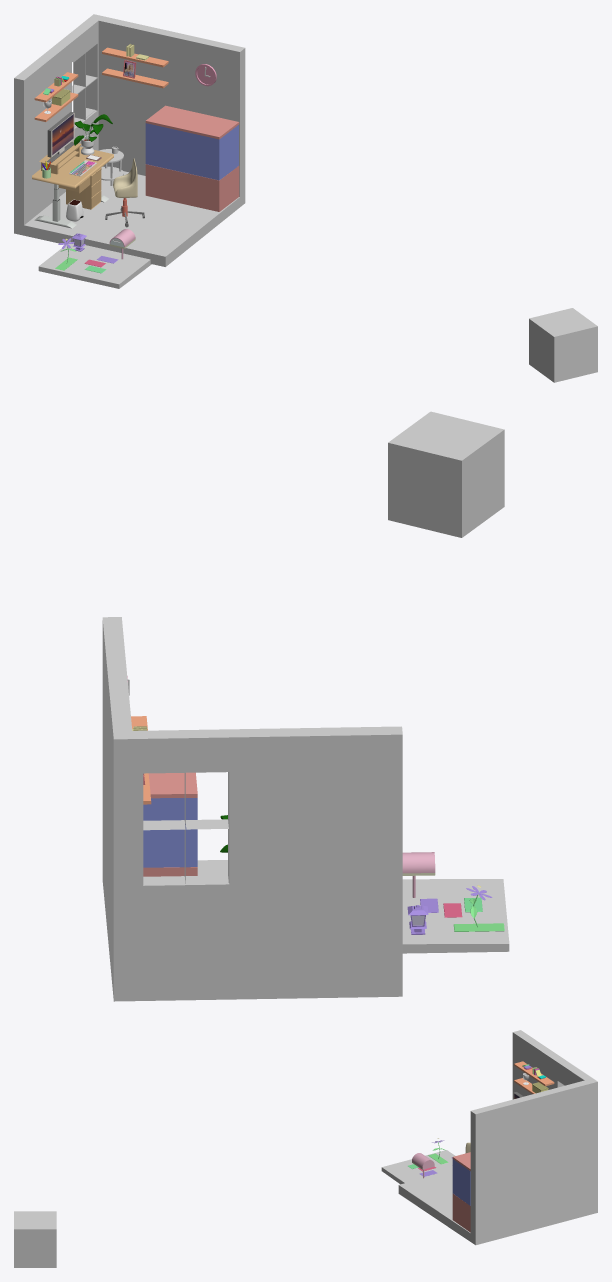
Rendered from Finale.glb.
The picture shows the model from 3 angles, top to bottom: view 1: azimuth 30°, elevation 25°; view 2: azimuth 150°, elevation 25°; view 3: azimuth 270°, elevation 25°; orthographic projection. The views are drawn at different scales.
Parts seen in each view (by area): view 1: Cube, Cube.002, Cube.001, Cube.003, Mini_floor, Plane, Table top, chair seat, computer.001, computer, Cylinder.005, computer table; view 2: Cube, Cube.001, Mini_floor, Cube.003, Cube.002, Plane, Mailbox; view 3: Cube, Cube.001, Mini_floor, Cube.002, Cube.003.
Boxes of the visible parts, <box> form: Cube: <box>14,14,245,266</box>; Cube.002: <box>145,105,239,211</box>; Cube.001: <box>529,308,597,382</box>; Cube.003: <box>145,123,238,180</box>; Mini_floor: <box>38,241,151,288</box>; Plane: <box>72,41,98,130</box>; Table top: <box>32,146,113,188</box>; chair seat: <box>113,158,137,197</box>; computer.001: <box>52,114,73,154</box>; computer: <box>46,112,74,162</box>; Cylinder.005: <box>99,149,123,185</box>; computer table: <box>39,142,81,174</box>; Cube: <box>102,617,402,1001</box>; Cube.001: <box>388,411,504,537</box>; Mini_floor: <box>402,879,509,953</box>; Cube.003: <box>143,798,197,867</box>; Cube.002: <box>143,772,197,876</box>; Plane: <box>143,772,228,883</box>; Mailbox: <box>402,852,435,897</box>; Cube: <box>398,1030,597,1245</box>; Cube.001: <box>14,1211,56,1267</box>; Mini_floor: <box>381,1150,455,1184</box>; Cube.002: <box>452,1152,470,1232</box>; Cube.003: <box>452,1159,470,1205</box>.
Bounding box in the file's own units: 40.76 × 20.13 × 80.6.
55 materials, 2 textured.
